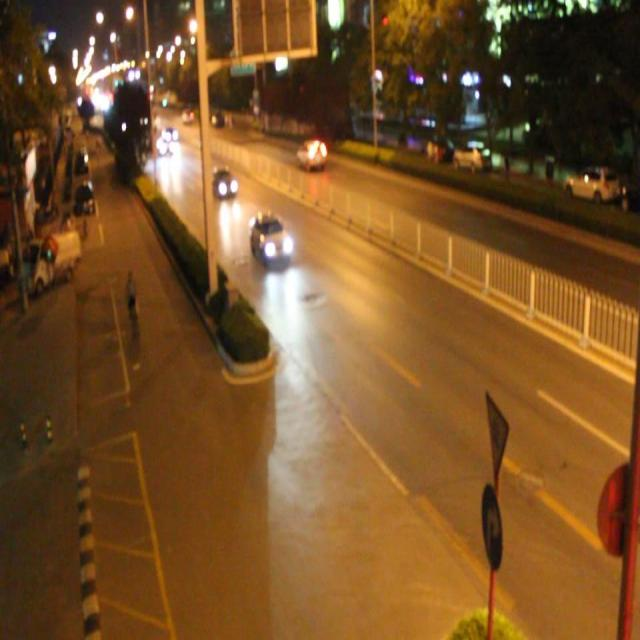car: (247, 213, 292, 269), (209, 163, 238, 196), (297, 139, 327, 168), (156, 136, 173, 156), (162, 125, 178, 142), (180, 108, 195, 125)
